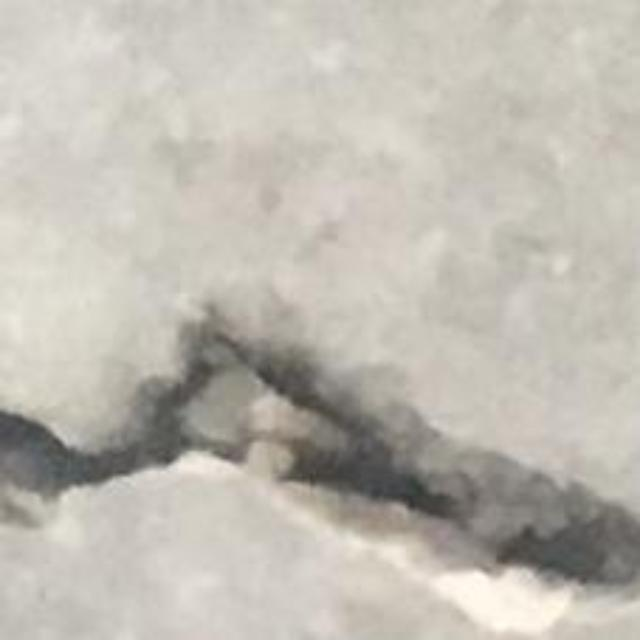crack: (0, 322, 639, 586)
